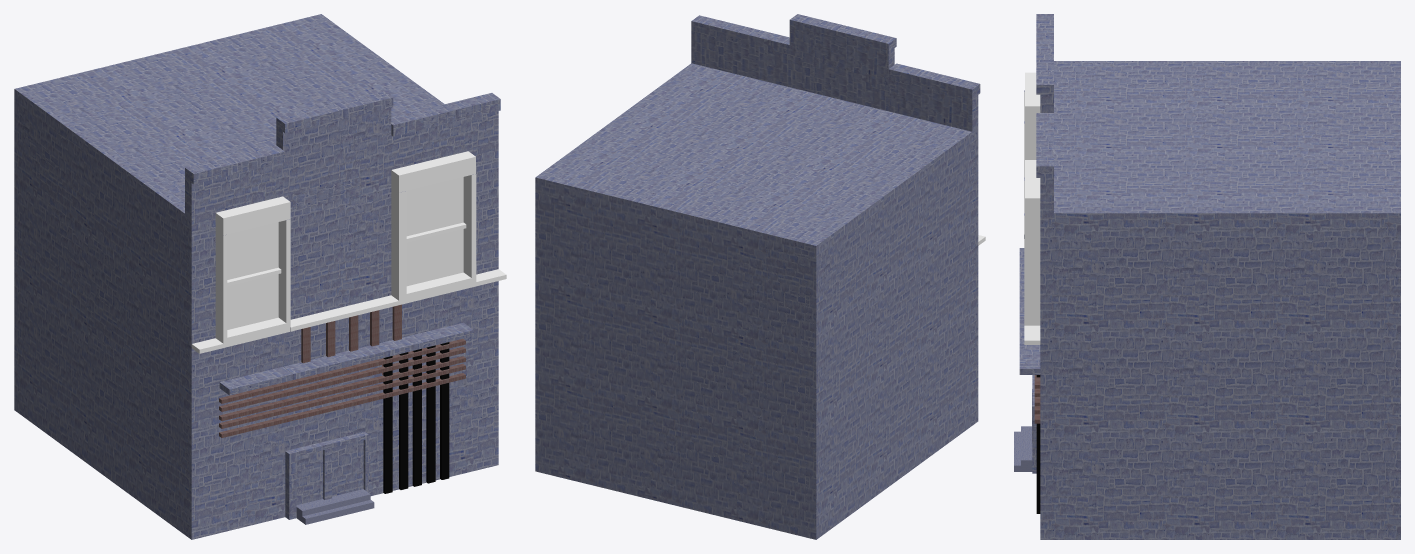
Rendered from building_two.fbx.
The picture shows the model from 3 angles, left to right: view 1: azimuth 30°, elevation 25°; view 2: azimuth 150°, elevation 25°; view 3: azimuth 270°, elevation 25°; orthographic projection. The views are drawn at different scales.
Parts seen in each view (by area): view 1: house, pCube13, pCube15, pCube12, pCube14, pCube16, pCube11, pCube7, pCube9, pCube10, pCube8, steps1 (+1 smaller); view 2: house; view 3: house, pCube8, steps1.
Part boxes in pixels (<box>): house: <box>14,14,506,539</box>; pCube13: <box>219,364,465,428</box>; pCube15: <box>219,347,465,411</box>; pCube12: <box>219,356,465,420</box>; pCube14: <box>219,373,465,437</box>; pCube16: <box>219,339,465,403</box>; pCube11: <box>383,356,392,493</box>; pCube7: <box>426,345,435,483</box>; pCube9: <box>412,348,421,486</box>; pCube10: <box>399,352,408,489</box>; pCube8: <box>440,342,449,479</box>; steps1: <box>296,489,370,516</box>; house: <box>535,14,985,539</box>; house: <box>1019,14,1400,539</box>; pCube8: <box>1036,375,1040,513</box>; steps1: <box>1021,426,1032,465</box>.
Size of the model in its own units: 3.48 by 4.29 by 3.74.
Materials: 5 (2 with a texture image).
